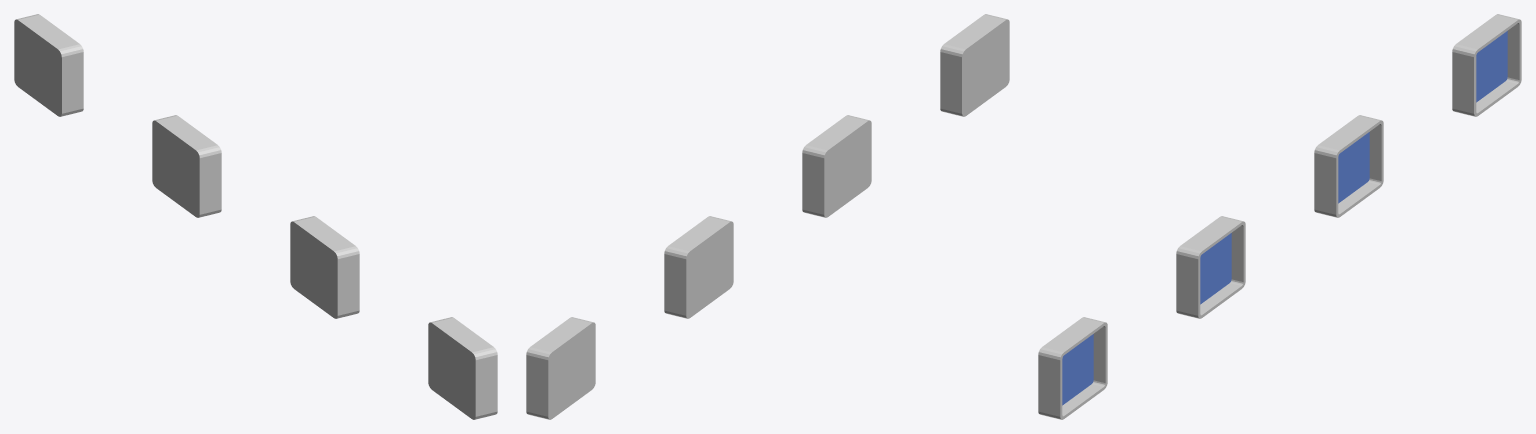
Rendered from window_model.fbx.
3 views of the same model, side by side, from view 1: azimuth 30°, elevation 25°; view 2: azimuth 150°, elevation 25°; view 3: azimuth 330°, elevation 25° (orthographic).
Visible parts, largest first — view 1: Cube.008; view 2: Cube.008; view 3: Cube.008.
Part boxes in pixels (x1,y1,x2,y2): Cube.008: (14, 14, 497, 419); Cube.008: (526, 14, 1009, 419); Cube.008: (1038, 14, 1521, 419).
Bounding box in the file's own units: 464 × 1350 × 16897.
